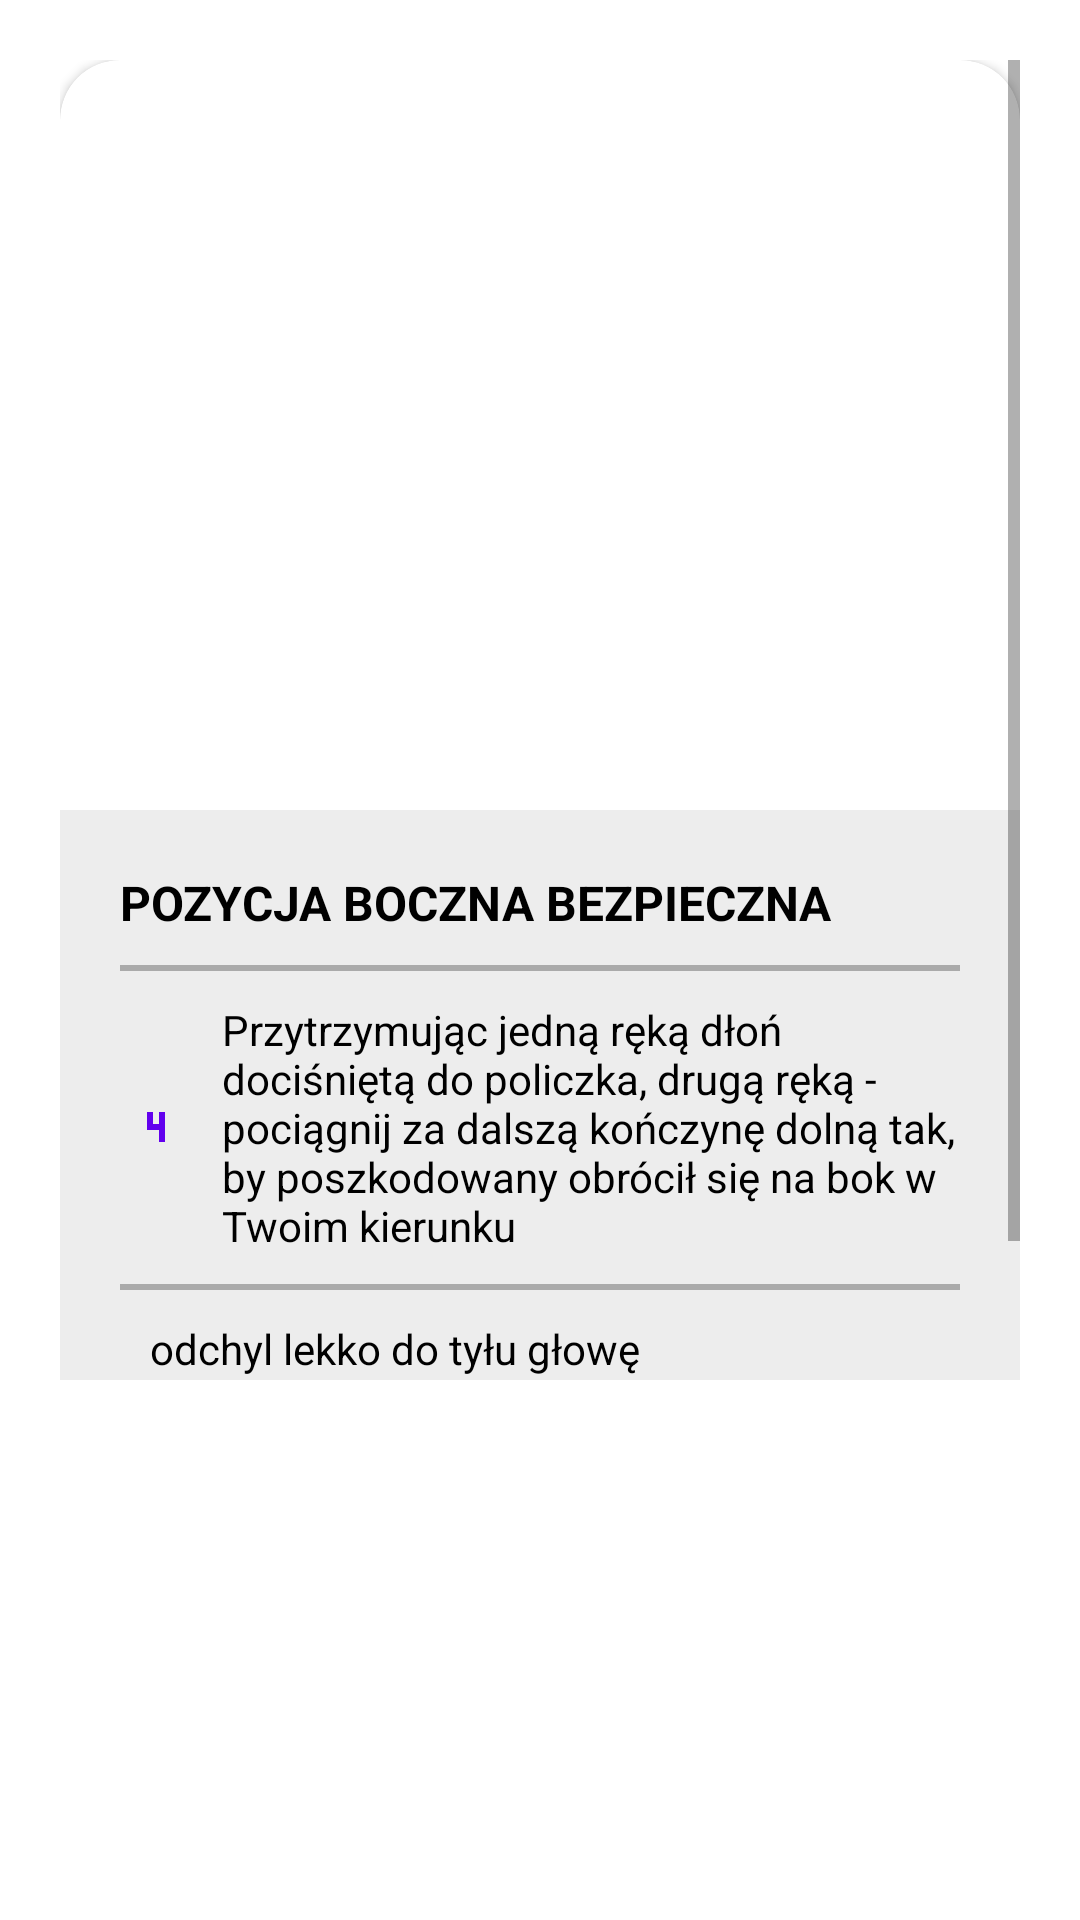

Icons on this 1080 × 1920 Android screen, each with its box as region(x1, y1, x2, y2):
numeric: region(147, 1112, 165, 1142)
